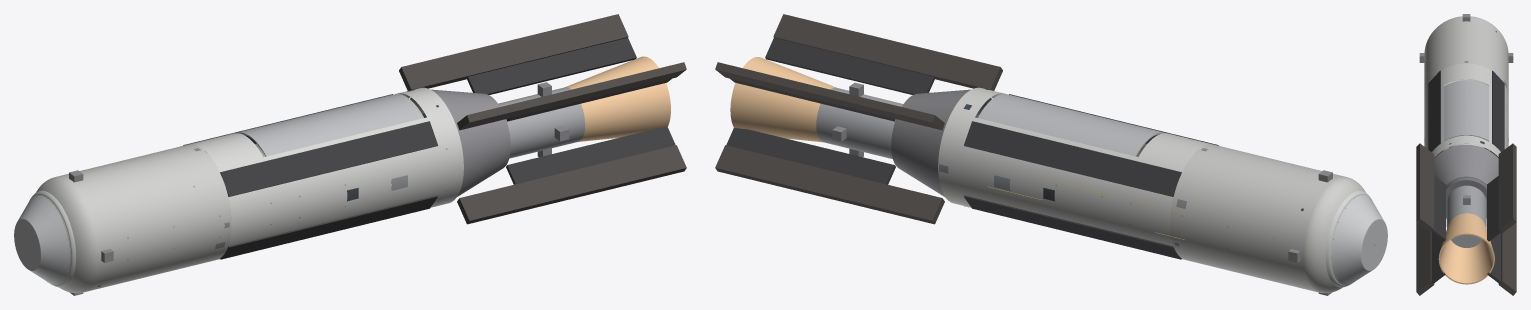
File: wayfarer_I4_in_out_8b43d87d.glb
3 views of the same model, side by side, from view 1: azimuth 30°, elevation 25°; view 2: azimuth 150°, elevation 25°; view 3: azimuth 270°, elevation 25° (orthographic). The views are drawn at different scales.
Parts seen in each view (by area): view 1: Exterior, crown closed/hull_armor, Exterior, crown closed/radiator, Exterior, crown closed/hotfin, Exterior, crown closed/hull_skin, Exterior, crown closed/door, Exterior, crown closed/nozzle, Exterior, crown closed/thrust_cone, Exterior, crown closed/crown_tambour, Exterior, crown closed/reactor, Exterior, crown closed/rcs, Exterior, crown closed/crown_brow; view 2: Exterior, crown closed/hull_armor, Exterior, crown closed/radiator, Exterior, crown closed/hotfin, Exterior, crown closed/hull_skin, Exterior, crown closed/door, Exterior, crown closed/nozzle, Exterior, crown closed/thrust_cone, Exterior, crown closed/crown_tambour, Exterior, crown closed/reactor, Exterior, crown closed/rcs, Exterior, crown closed/crown_brow; view 3: Exterior, crown closed/hotfin, Exterior, crown closed/radiator, Exterior, crown closed/hull_armor, Exterior, crown closed/nozzle, Exterior, crown closed/door, Exterior, crown closed/hull_skin, Exterior, crown closed/thrust_cone, Exterior, crown closed/reactor, Exterior, crown closed/shield, Exterior, crown closed/rcs.
Boxes of the visible parts, bbox=[...] form: Exterior, crown closed/hull_armor: bbox=[36, 144, 231, 293]; Exterior, crown closed/radiator: bbox=[183, 38, 675, 259]; Exterior, crown closed/hotfin: bbox=[399, 14, 686, 224]; Exterior, crown closed/hull_skin: bbox=[190, 87, 463, 259]; Exterior, crown closed/door: bbox=[235, 94, 423, 156]; Exterior, crown closed/nozzle: bbox=[565, 56, 670, 141]; Exterior, crown closed/thrust_cone: bbox=[410, 89, 510, 196]; Exterior, crown closed/crown_tambour: bbox=[14, 195, 70, 285]; Exterior, crown closed/reactor: bbox=[498, 87, 585, 158]; Exterior, crown closed/rcs: bbox=[69, 82, 569, 295]; Exterior, crown closed/crown_brow: bbox=[29, 190, 76, 287]; Exterior, crown closed/hull_armor: bbox=[1170, 144, 1365, 293]; Exterior, crown closed/radiator: bbox=[726, 38, 1218, 259]; Exterior, crown closed/hotfin: bbox=[715, 14, 1002, 224]; Exterior, crown closed/hull_skin: bbox=[938, 87, 1211, 259]; Exterior, crown closed/door: bbox=[978, 94, 1166, 156]; Exterior, crown closed/nozzle: bbox=[730, 57, 835, 142]; Exterior, crown closed/thrust_cone: bbox=[891, 89, 991, 196]; Exterior, crown closed/crown_tambour: bbox=[1331, 195, 1387, 285]; Exterior, crown closed/reactor: bbox=[816, 87, 903, 158]; Exterior, crown closed/rcs: bbox=[832, 82, 1332, 295]; Exterior, crown closed/crown_brow: bbox=[1325, 190, 1372, 287]; Exterior, crown closed/hotfin: bbox=[1416, 143, 1516, 295]; Exterior, crown closed/radiator: bbox=[1428, 70, 1504, 283]; Exterior, crown closed/hull_armor: bbox=[1424, 16, 1508, 97]; Exterior, crown closed/nozzle: bbox=[1438, 213, 1494, 284]; Exterior, crown closed/door: bbox=[1444, 80, 1488, 141]; Exterior, crown closed/hull_skin: bbox=[1424, 63, 1508, 156]; Exterior, crown closed/thrust_cone: bbox=[1434, 144, 1498, 218]; Exterior, crown closed/reactor: bbox=[1447, 185, 1486, 247]; Exterior, crown closed/shield: bbox=[1446, 177, 1486, 217]; Exterior, crown closed/rcs: bbox=[1419, 14, 1513, 226].
Bounding box in the file's own units: 54.61 × 10 × 10.73.
